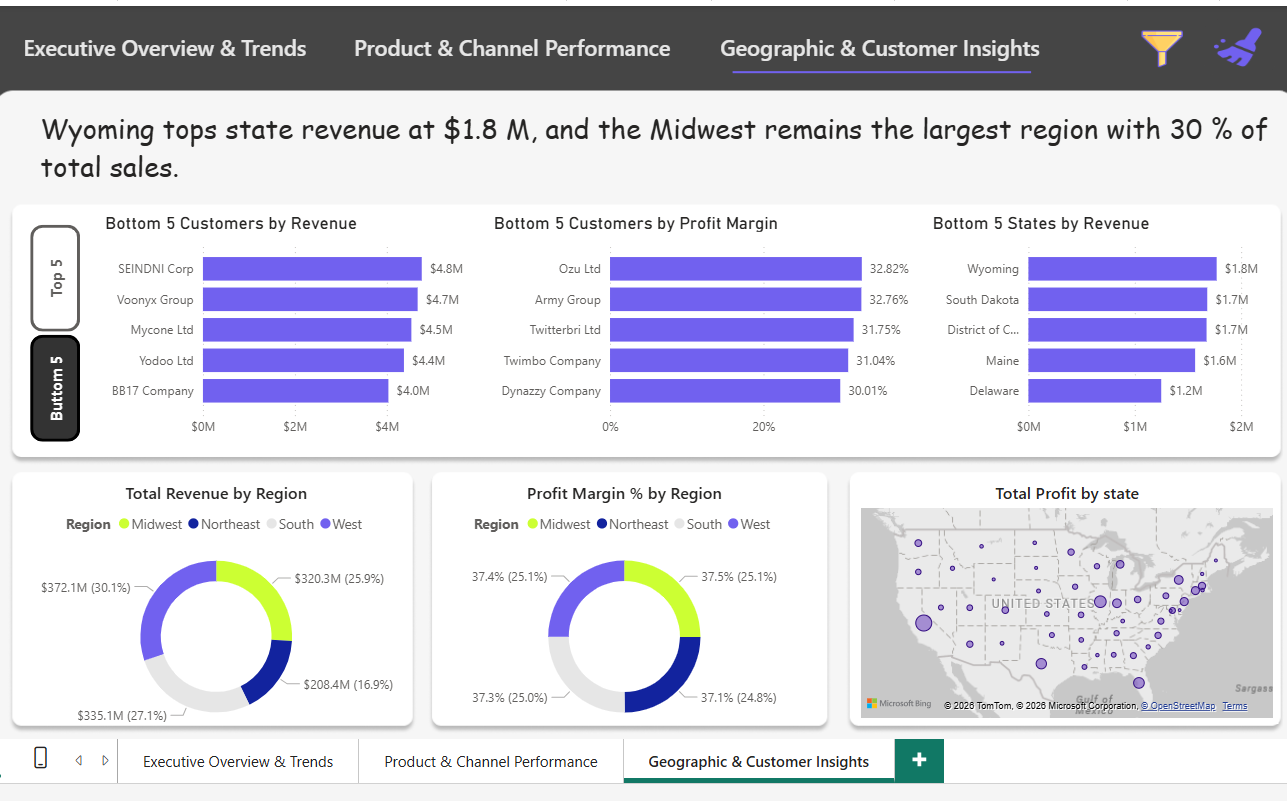

This screenshot's page, from the dashboard's own definition file:
{"tool":"powerbi","page":{"name":"Geographic & Customer Insights","canvas":[1280,720],"ordinal":2},"visuals":[{"type":"barChart","title":"Bottom 5 States by Revenue","fields":{"Category":["Sales_data.state_name"],"Y":["Measures_.Total Revenue"]},"box":[916.3,202.7,344.1,228.8],"z":0,"group":"g2"},{"type":"actionButton","box":[36.3,215,49,105],"z":0,"group":"g1"},{"type":"donutChart","title":"Total Revenue by Region","fields":{"Category":["Sales_data.us_region"],"Y":["Measures_.Total Revenue"]},"box":[20.3,466.1,394.9,254.2],"z":0},{"type":"barChart","title":"Bottom 5 Customers by Profit Margin","fields":{"Category":["Sales_data.customer_name"],"Y":["Measures_.Profit Margin %"]},"box":[485.8,202.7,430.5,228.8],"z":1000,"group":"g2"},{"type":"actionButton","box":[36,323.3,49,105],"z":1000,"group":"g1"},{"type":"donutChart","title":"Profit Margin % by Region","fields":{"Category":["Sales_data.us_region"],"Y":["Measures_.Profit Margin %"]},"box":[415.3,466.1,408.5,254.2],"z":1000},{"type":"actionButton","box":[337.2,14.1,342.3,55.1],"z":2000},{"type":"barChart","title":"Bottom 5 Customers by Revenue","fields":{"Category":["Sales_data.customer_name"],"Y":["Measures_.Total Revenue"]},"box":[104.4,202.7,381.4,228.8],"z":2000,"group":"g2"},{"type":"actionButton","box":[9,14.1,317.9,55.1],"z":3000},{"type":"actionButton","box":[702.6,14.1,333.3,55.1],"z":4000},{"type":"group","id":"g1","title":"bottom 5 button","box":[36,215,49.3,213.3],"z":5000},{"type":"map","fields":{"Category":["Sales_data.state"],"Size":["Measures_.Total Profit"]},"box":[846.9,465.7,413.8,237.7],"z":7000},{"type":"group","id":"g2","title":"buttom 5","box":[104.4,202.7,1155.9,228.8],"z":8000},{"type":"textbox","title":"Bottom Text","box":[40,96,1222,120],"z":10000},{"type":"actionButton","box":[1188,14,70,55],"z":12000},{"type":"actionButton","box":[1120,21,53,42],"z":13000}]}

Visuals, with their boxes on the page's 1280x720 design canvas (x1, y1, x2, y2). These are canvas units, not pixel positions in the 1287x801 screenshot, which may show the page scaled, cropped or inside an application window:
"Bottom 5 States by Revenue" barChart: (x1=916, y1=203, x2=1260, y2=432)
actionButton: (x1=36, y1=215, x2=85, y2=320)
"Total Revenue by Region" donutChart: (x1=20, y1=466, x2=415, y2=720)
"Bottom 5 Customers by Profit Margin" barChart: (x1=486, y1=203, x2=916, y2=432)
actionButton: (x1=36, y1=323, x2=85, y2=428)
"Profit Margin % by Region" donutChart: (x1=415, y1=466, x2=824, y2=720)
actionButton: (x1=337, y1=14, x2=680, y2=69)
"Bottom 5 Customers by Revenue" barChart: (x1=104, y1=203, x2=486, y2=432)
actionButton: (x1=9, y1=14, x2=327, y2=69)
actionButton: (x1=703, y1=14, x2=1036, y2=69)
"bottom 5 button" group: (x1=36, y1=215, x2=85, y2=428)
map - Sales_data.state x Measures_.Total Profit: (x1=847, y1=466, x2=1261, y2=703)
"buttom 5" group: (x1=104, y1=203, x2=1260, y2=432)
"Bottom Text" textbox: (x1=40, y1=96, x2=1262, y2=216)
actionButton: (x1=1188, y1=14, x2=1258, y2=69)
actionButton: (x1=1120, y1=21, x2=1173, y2=63)
